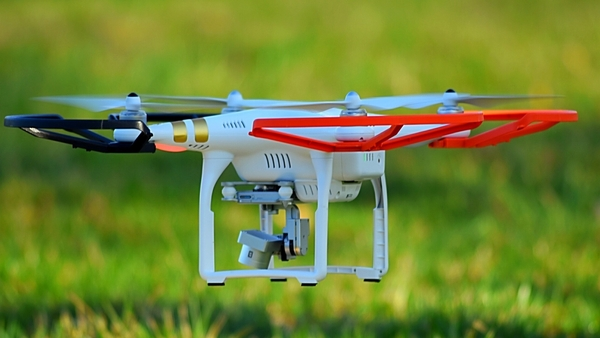drone: (3, 86, 582, 288)
